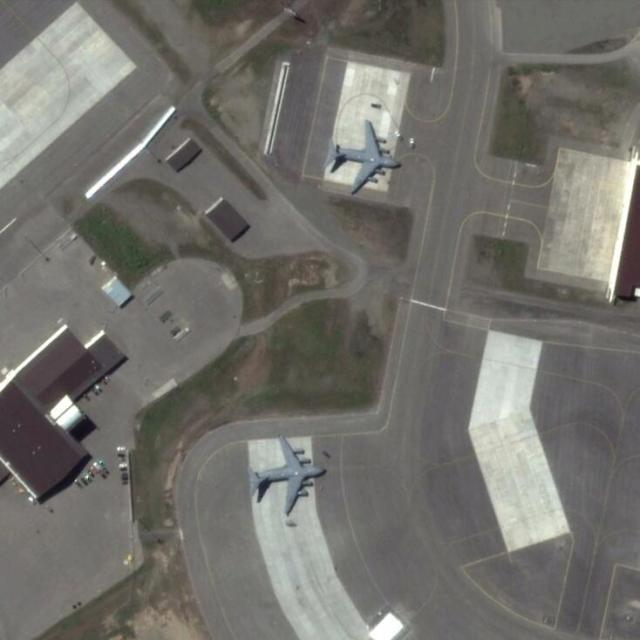fighter jet: (248, 434, 326, 515), (330, 119, 402, 196)
